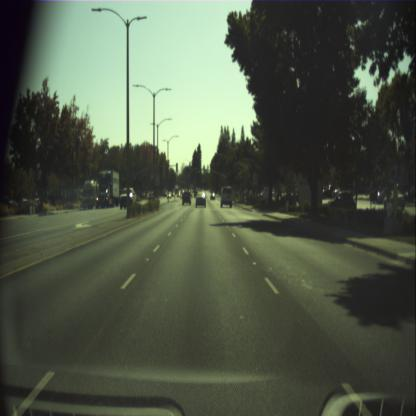Green: (198, 168, 200, 173)
off: (186, 167, 188, 173)
